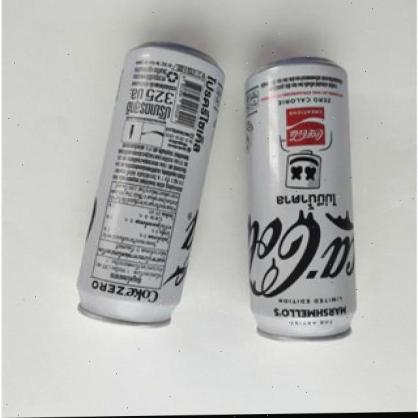can: (76, 44, 226, 331), (244, 59, 359, 348)
